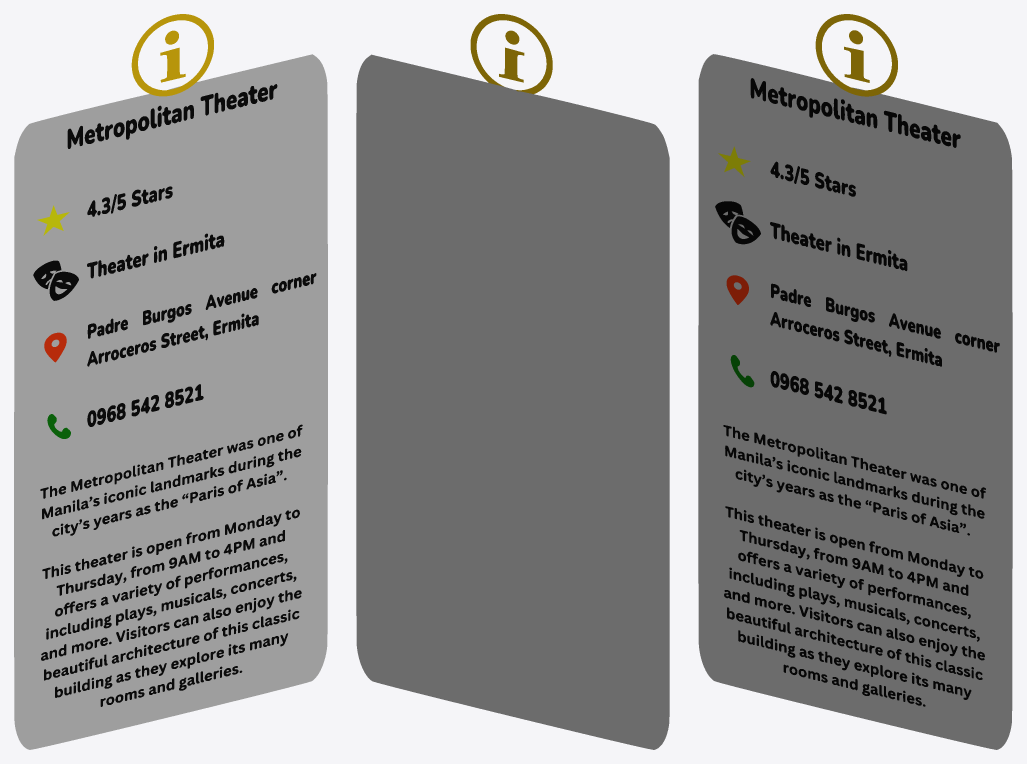
Rendered from MET-1-CONTAINER.fbx.
3 views of the same model, side by side, from view 1: azimuth 30°, elevation 25°; view 2: azimuth 150°, elevation 25°; view 3: azimuth 330°, elevation 25° (orthographic).
Parts seen in each view (by area): view 1: Curve.004; view 2: Curve.004; view 3: Curve.004.
Part boxes in pixels (bbox=[...]): Curve.004: bbox=[14, 14, 327, 749]; Curve.004: bbox=[356, 14, 669, 749]; Curve.004: bbox=[698, 14, 1012, 749].
Bounding box in the file's own units: 21.09 × 45.04 × 0.2098.
